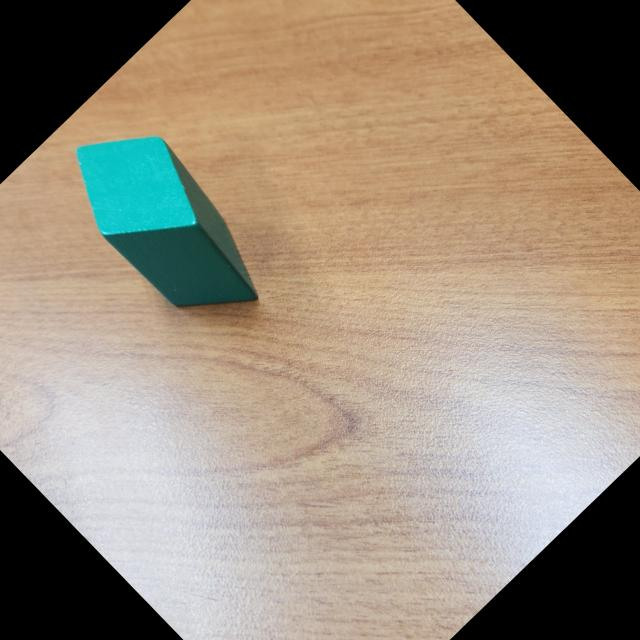green: (44, 98, 292, 349)
